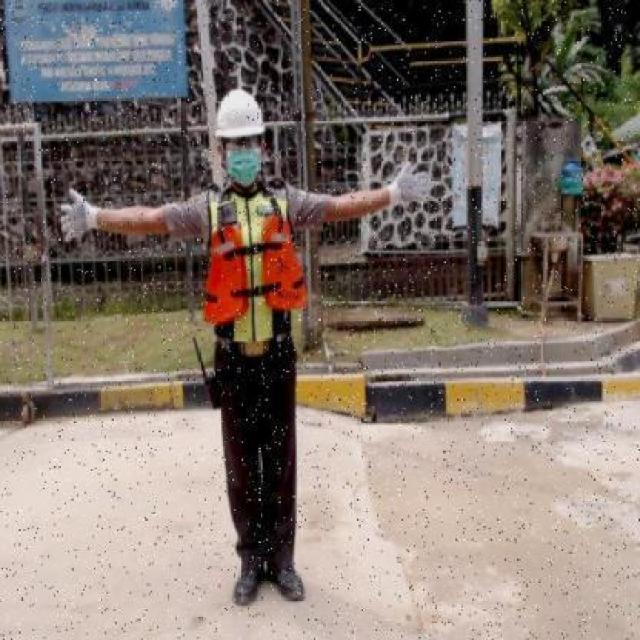Boots: (231, 556, 267, 609), (264, 562, 308, 603)
Gloves: (57, 184, 105, 245), (384, 156, 434, 210)
Helmet: (213, 89, 265, 136)
Mask: (225, 153, 262, 189)
Protective Glasses: (225, 137, 263, 149)
Vest: (201, 213, 308, 327)
